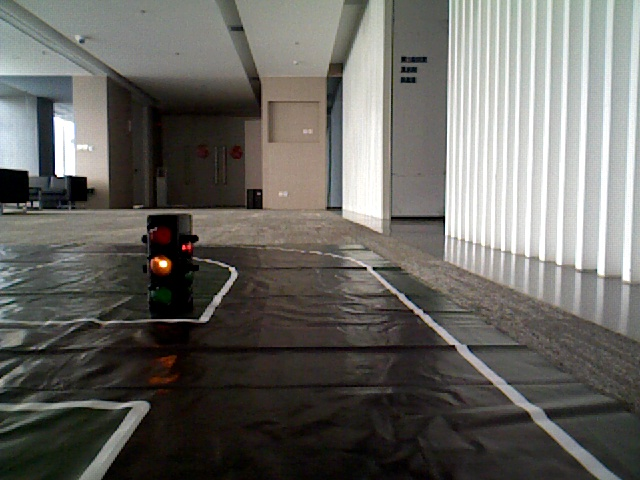yellow: (146, 220, 180, 305)
